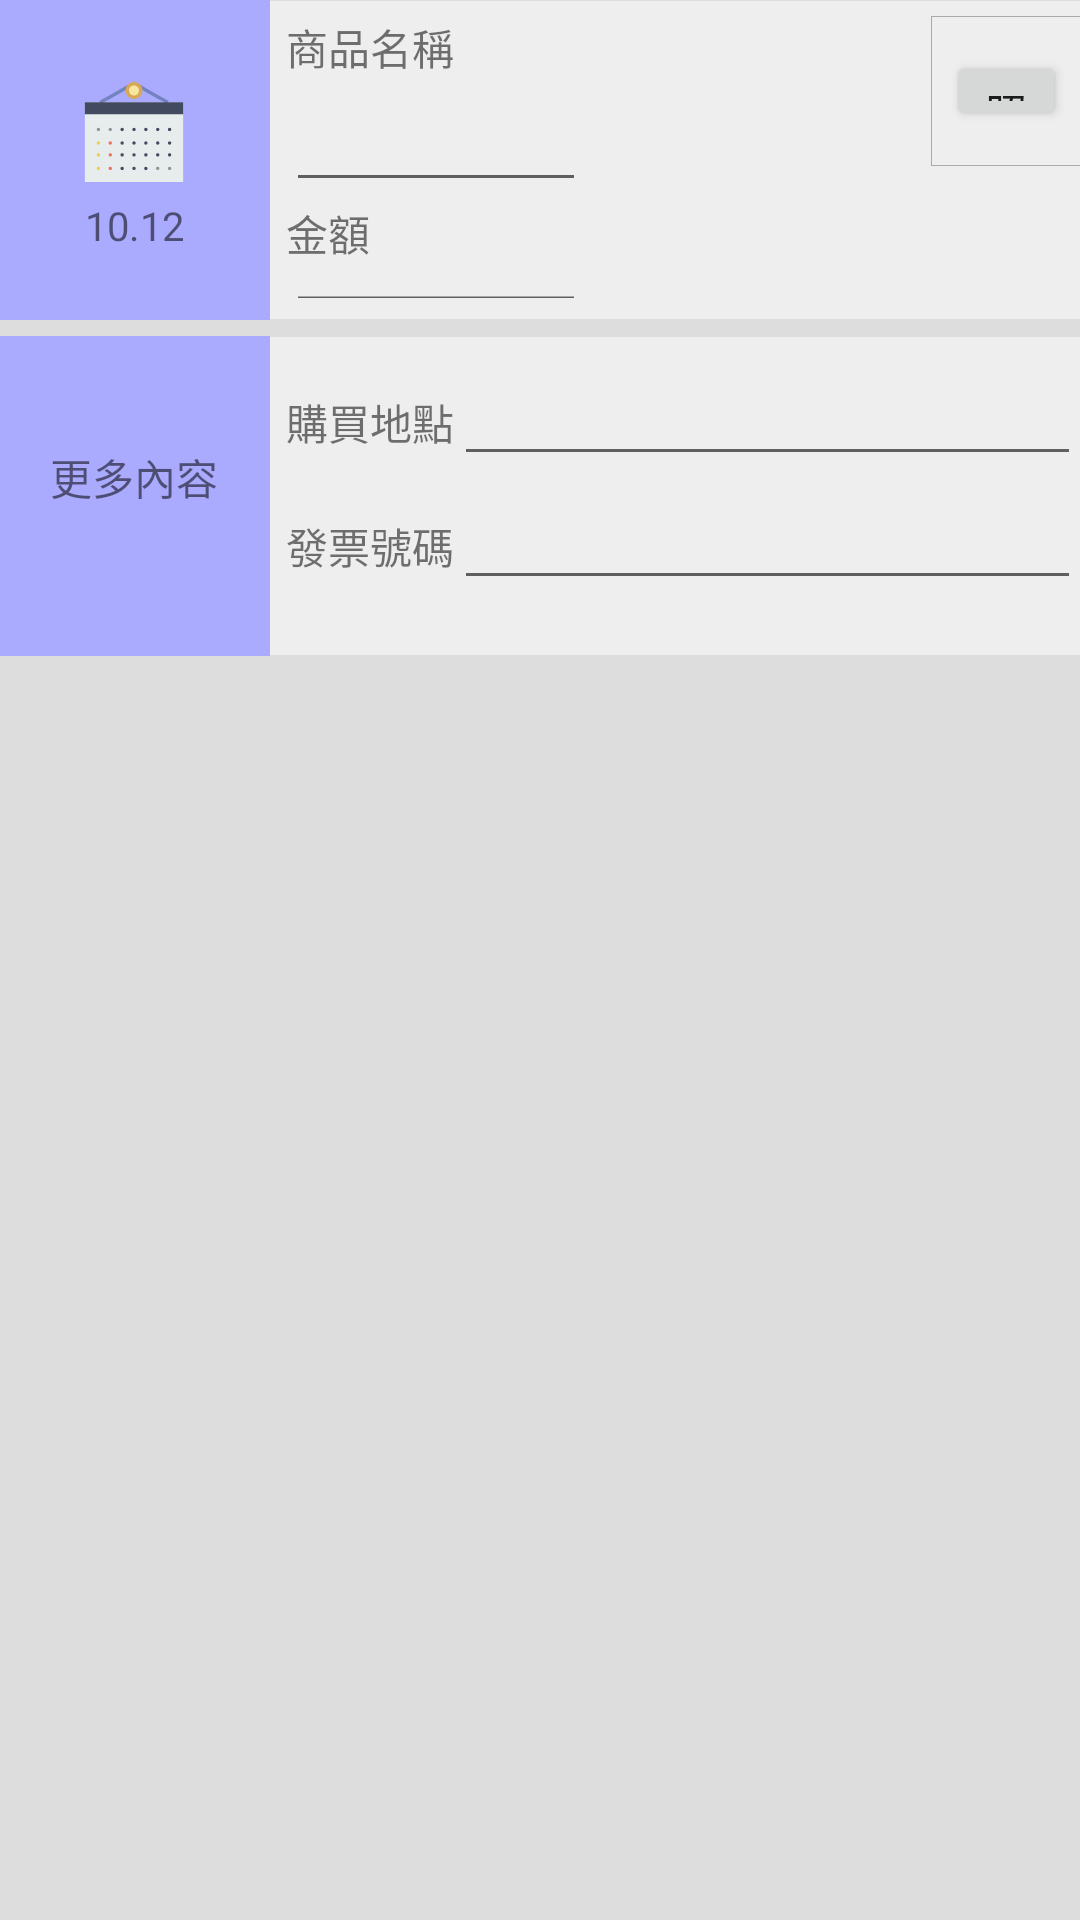

Where icons sit on this 1080px x 1920px app screen, as (x1, y1, x2, y2):
calendar: (84, 82, 184, 182)
